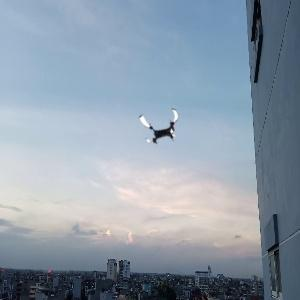drone: (141, 105, 185, 149)
